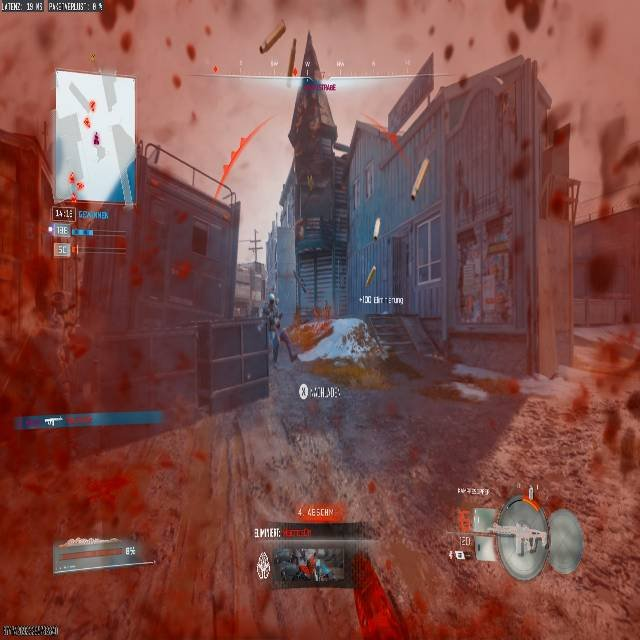player: (263, 296, 297, 364)
